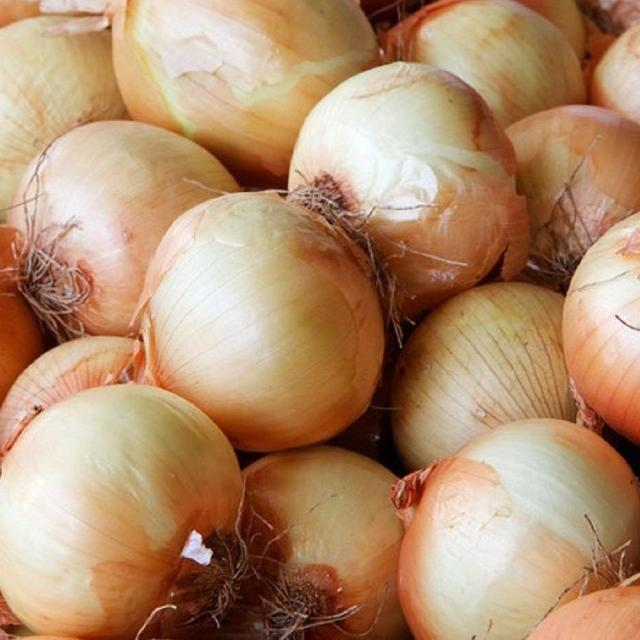onion: (129, 176, 383, 436), (0, 386, 253, 635), (384, 418, 640, 640), (282, 67, 514, 298), (13, 117, 234, 331)
